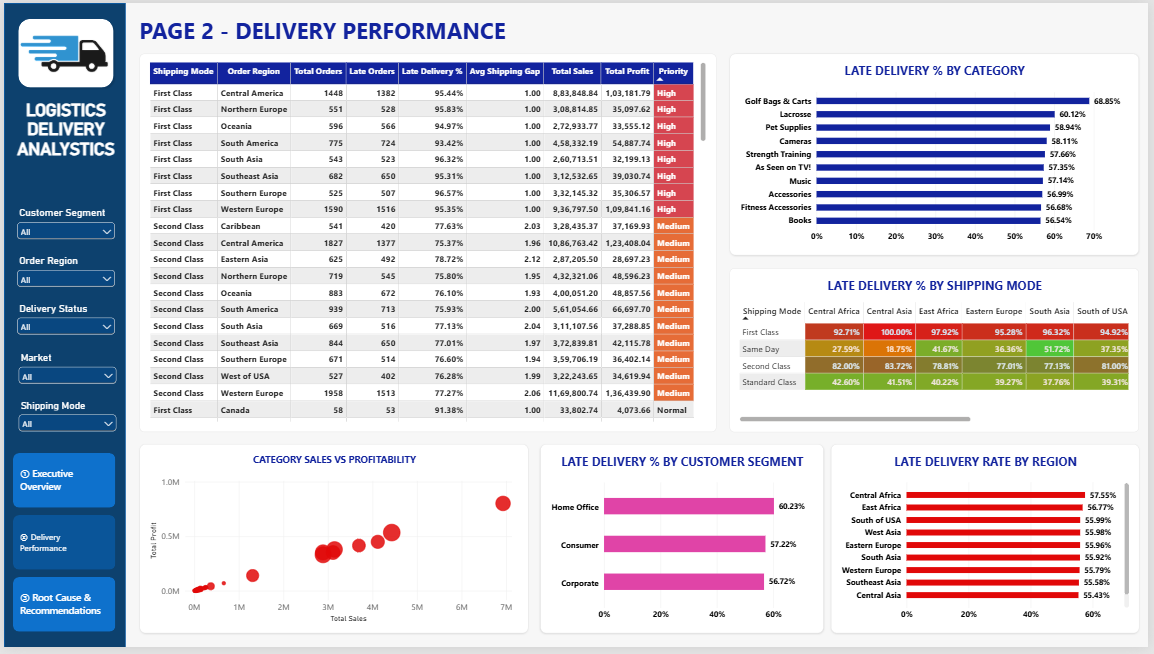

This screenshot's page, from the dashboard's own definition file:
{"tool":"powerbi","page":{"name":"② Delivery Performance","canvas":[1920,1080],"ordinal":1},"visuals":[{"type":"shape","box":[0,0,204.3,1440],"z":1000},{"type":"shape","box":[17.1,20,172.9,128.6],"z":1500},{"type":"clusteredBarChart","title":"LATE DELIVERY RATE BY REGION","fields":{"Category":["public logistic.Order Region"],"Y":["public logistic.Late Delivery %"]},"box":[1387.5,740,517.5,317.5],"z":2000},{"type":"clusteredBarChart","title":"LATE DELIVERY % BY CATEGORY","fields":{"Category":["public logistic.Category Name"],"Y":["public logistic.Late Delivery %"]},"box":[1218.3,85,686.7,338.3],"z":3000},{"type":"clusteredBarChart","title":"LATE DELIVERY % BY CUSTOMER SEGMENT","fields":{"Category":["public logistic.Customer Segment"],"Y":["public logistic.Late Delivery %"]},"box":[900,740,475,317.5],"z":4000},{"type":"pivotTable","title":"LATE DELIVERY % BY SHIPPING MODE","fields":{"Columns":["public logistic.Order Region"],"Rows":["public logistic.Shipping Mode"],"Values":["public logistic.Late Delivery %"]},"box":[1218.3,445,686.7,275],"z":5000},{"type":"shape","box":[2160,288,315,18.8],"z":6000},{"type":"textbox","box":[226.7,20,1010,70],"z":7000},{"type":"textbox","box":[17.1,161.4,172.9,101.4],"z":8000},{"type":"tableEx","fields":{"Values":["public logistic.Shipping Mode","public logistic.Order Region","public logistic.Total Orders","public logistic.Late Orders","public logistic.Late Delivery %","public logistic.Avg Shipping Gap","public logistic.Total Sales","public logistic.Total Profit","public logistic.Priority"]},"box":[227.5,85,967.5,635],"z":9000},{"type":"scatterChart","title":"CATEGORY SALES VS PROFITABILITY","fields":{"Category":["public logistic.Category Name"],"Size":["public logistic.Total Orders"],"X":["public logistic.Total Sales"],"Y":["public logistic.Total Profit"]},"box":[227.5,740,652.5,317.5],"z":10000},{"type":"pageNavigator","box":[15,755,172.5,302.5],"z":11000},{"type":"slicer","fields":{"Values":["public logistic.Customer Segment"]},"box":[16.7,341.7,173.3,66.7],"z":12000},{"type":"slicer","fields":{"Values":["public logistic.Order Region"]},"box":[17.5,422.5,173.3,66.7],"z":13000},{"type":"slicer","fields":{"Values":["public logistic.Delivery Status"]},"box":[18.3,503.3,173.3,66.7],"z":14000},{"type":"slicer","fields":{"Values":["public logistic.Market"]},"box":[20,584.2,173.3,66.7],"z":15000},{"type":"slicer","fields":{"Values":["public logistic.Shipping Mode"]},"box":[19.2,665,173.3,66.7],"z":16000},{"type":"image","box":[22.9,5.7,161.4,155.7],"z":16001}]}

Visuals, with their boxes on the page's 1920x1080 design canvas (x1, y1, x2, y2). These are canvas units, not pixel positions in the 1154x654 screenshot, which may show the page scaled, cropped or inside an application window:
shape: 0, 0, 204, 1440
shape: 17, 20, 190, 149
"LATE DELIVERY RATE BY REGION" clusteredBarChart: 1388, 740, 1905, 1058
"LATE DELIVERY % BY CATEGORY" clusteredBarChart: 1218, 85, 1905, 423
"LATE DELIVERY % BY CUSTOMER SEGMENT" clusteredBarChart: 900, 740, 1375, 1058
"LATE DELIVERY % BY SHIPPING MODE" pivotTable: 1218, 445, 1905, 720
shape: 2160, 288, 2475, 307
textbox: 227, 20, 1237, 90
textbox: 17, 161, 190, 263
tableEx - public logistic.Shipping Mode x public logistic.Order Region: 228, 85, 1195, 720
"CATEGORY SALES VS PROFITABILITY" scatterChart: 228, 740, 880, 1058
pageNavigator: 15, 755, 188, 1058
slicer - public logistic.Customer Segment: 17, 342, 190, 408
slicer - public logistic.Order Region: 18, 422, 191, 489
slicer - public logistic.Delivery Status: 18, 503, 192, 570
slicer - public logistic.Market: 20, 584, 193, 651
slicer - public logistic.Shipping Mode: 19, 665, 192, 732
image: 23, 6, 184, 161
